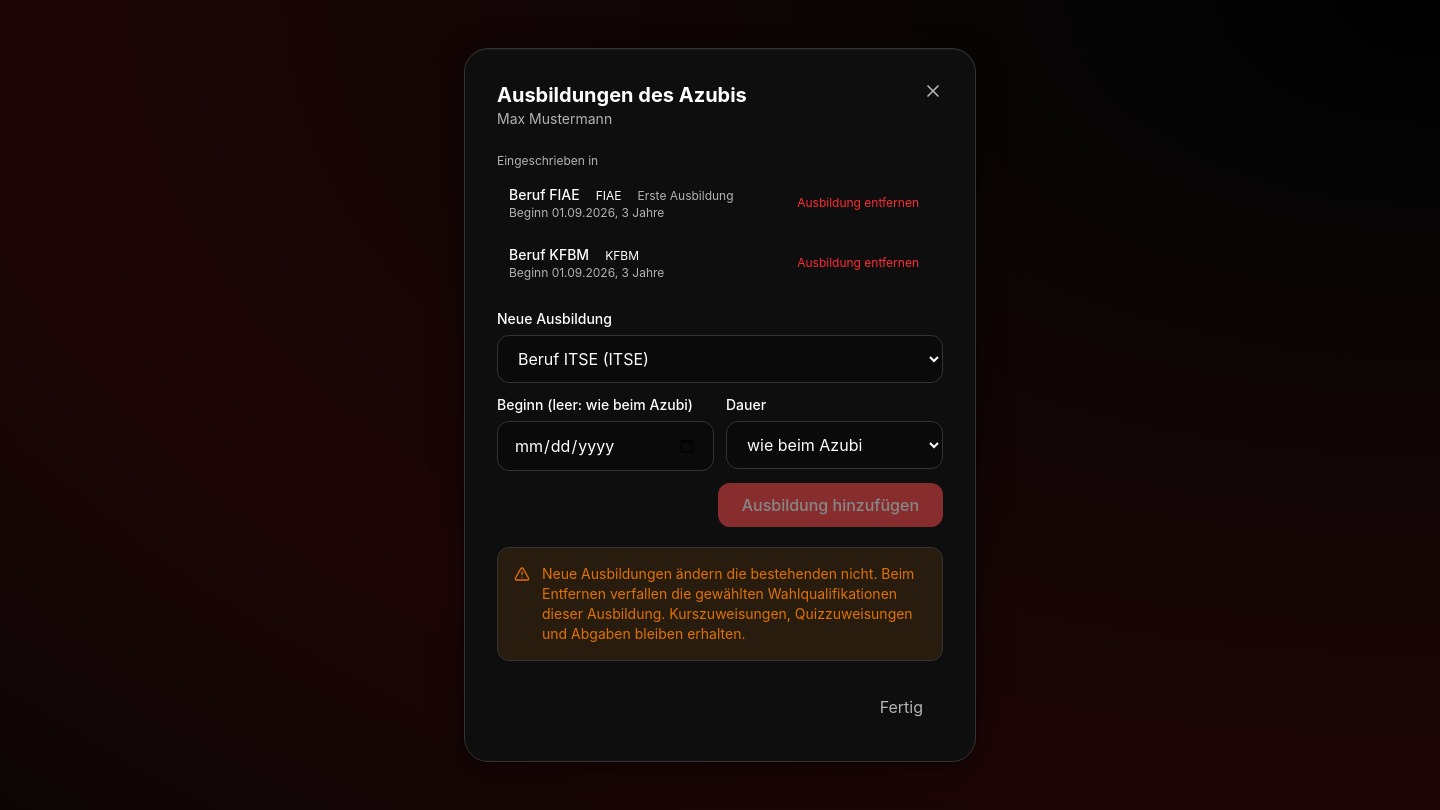
Test: TraineeEnrollmentDialog › removing a training › asks first and sends nothing before the confirmation
Click the button "Ausbildung entfernen" in the row of "Beruf KFBM".
click(858, 263)  # box [785,249,931,277]
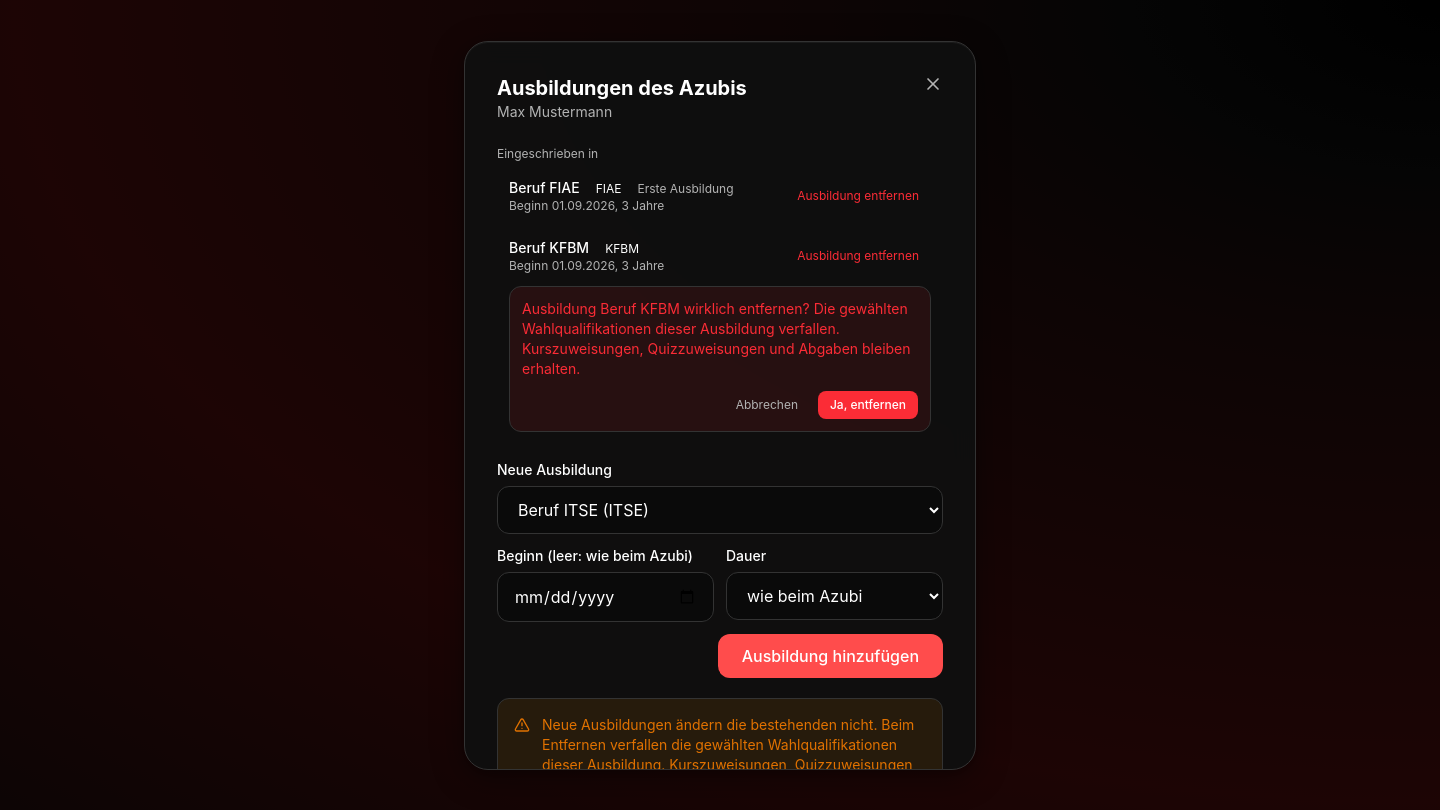
Check: the text "wirklich entfernen? Die gewählten Wahlqualifikationen" is shown, box [522,300,910,376]
# cancelling the question changes nothing
Click the button "Abbrechen".
click(767, 404)  # box [724,390,810,418]
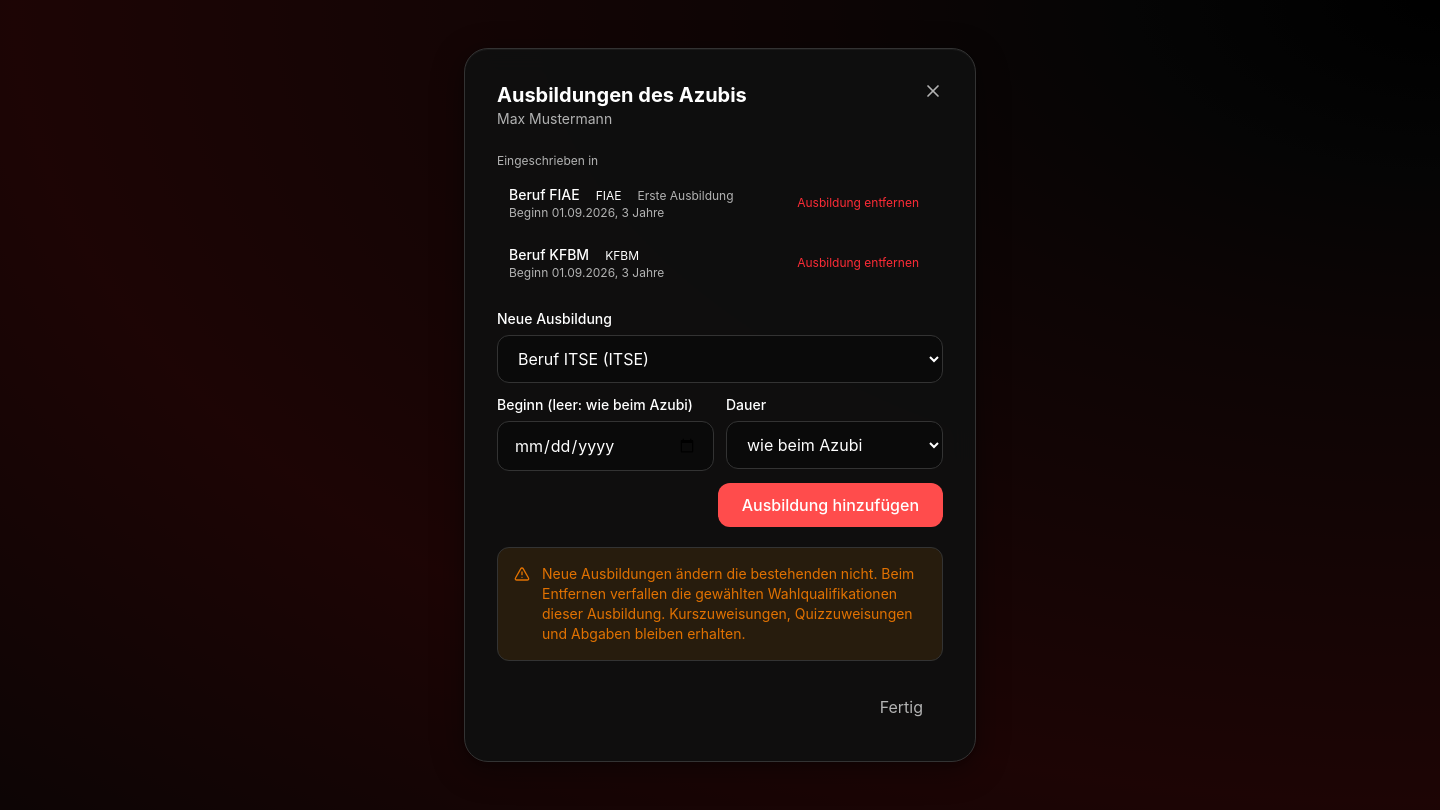
Check: the text "wirklich entfernen" is gone
